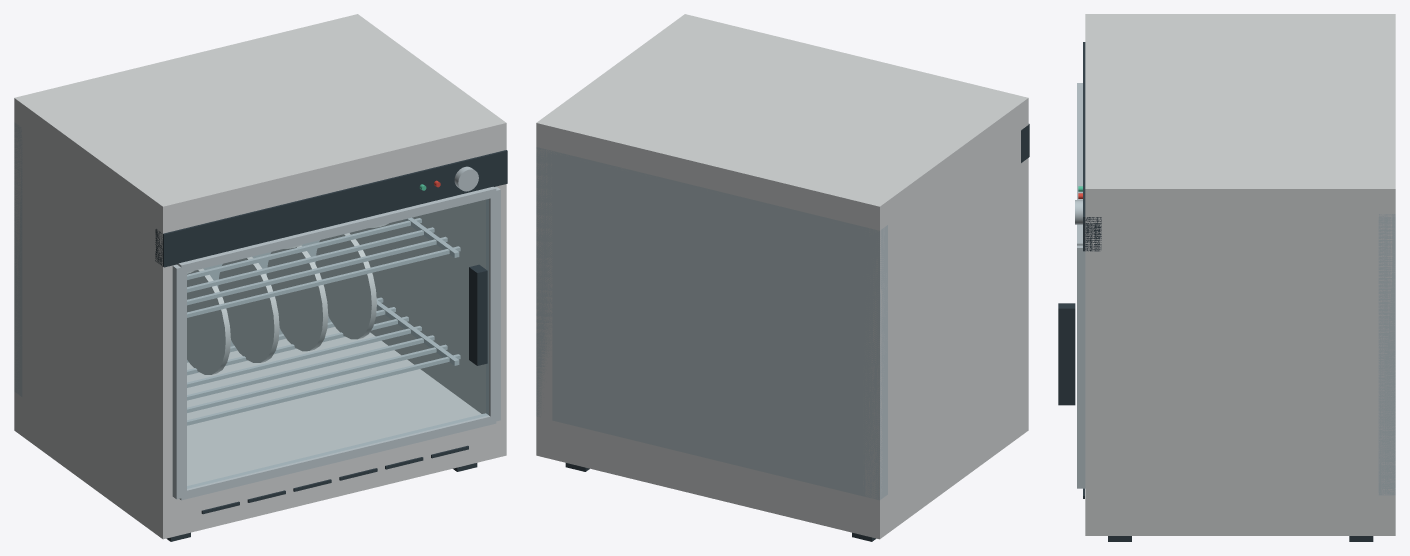
Rendered from dish_dryer.glb.
3 views of the same model, side by side, from view 1: azimuth 30°, elevation 25°; view 2: azimuth 150°, elevation 25°; view 3: azimuth 270°, elevation 25° (orthographic). The views are drawn at different scales.
Parts seen in each view (by area): view 1: glass_door, roof, side (×2), base, door_frame (×4), rack_bar (×9), control_strip, plate_4, plate_2, plate_3, plate_1, back (+2 smaller); view 2: back, roof, side (×2), base; view 3: side, roof, base, back, door_frame (×2), door_handle, control_strip.
Part boxes in pixels (left/top/right/bottom): glass_door: left=187, top=199, right=488, bottom=488; roof: left=14, top=14, right=506, bottom=232; side (×2): left=14, top=123, right=506, bottom=500; base: left=14, top=327, right=506, bottom=539; door_frame (×4): left=172, top=186, right=500, bottom=500; rack_bar (×9): left=187, top=218, right=460, bottom=425; control_strip: left=155, top=150, right=507, bottom=267; plate_4: left=315, top=233, right=376, bottom=339; plate_2: left=218, top=256, right=279, bottom=362; plate_3: left=267, top=245, right=328, bottom=351; plate_1: left=187, top=268, right=230, bottom=374; back: left=14, top=122, right=349, bottom=396; back: left=536, top=147, right=887, bottom=500; roof: left=536, top=14, right=1028, bottom=230; side (×2): left=536, top=122, right=1028, bottom=499; base: left=536, top=392, right=1028, bottom=539; side: left=1085, top=214, right=1395, bottom=495; roof: left=1085, top=14, right=1395, bottom=216; base: left=1085, top=495, right=1395, bottom=535; back: left=1378, top=214, right=1395, bottom=495; door_frame (×2): left=1077, top=83, right=1085, bottom=488; door_handle: left=1058, top=303, right=1075, bottom=405; control_strip: left=1083, top=42, right=1101, bottom=251.
Bounding box in the file's own units: 0.6 × 0.58 × 0.4895.
